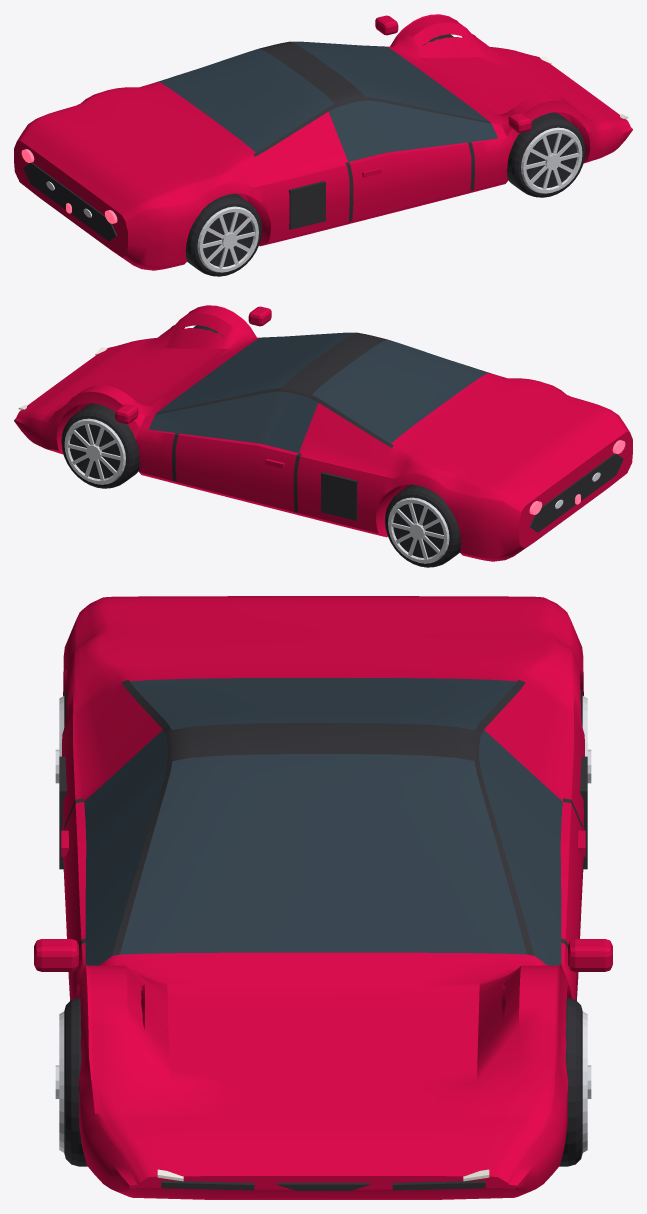
File: ferarri_laferarri.fbx
The picture shows the model from 3 angles, top to bottom: view 1: azimuth 30°, elevation 25°; view 2: azimuth 150°, elevation 25°; view 3: azimuth 270°, elevation 25°; orthographic projection. The views are drawn at different scales.
Parts seen in each view (by area): view 1: Body.036, Glass.036, Trim.036, Tire.036, Rim.036; view 2: Body.036, Glass.036, Trim.036, Tire.036, Rim.036; view 3: Body.036, Glass.036, Trim.036, Tire.036, Rim.036.
Part boxes in pixels (x1=…): Body.036: x1=14, y1=14, x2=632, y2=270; Glass.036: x1=159, y1=41, x2=498, y2=161; Trim.036: x1=23, y1=41, x2=626, y2=266; Tire.036: x1=185, y1=34, x2=585, y2=276; Rim.036: x1=197, y1=127, x2=582, y2=272; Body.036: x1=14, y1=305, x2=632, y2=561; Glass.036: x1=148, y1=332, x2=487, y2=452; Trim.036: x1=20, y1=332, x2=623, y2=557; Tire.036: x1=61, y1=325, x2=461, y2=567; Rim.036: x1=64, y1=418, x2=449, y2=563; Body.036: x1=34, y1=596, x2=612, y2=1199; Glass.036: x1=84, y1=678, x2=562, y2=965; Trim.036: x1=59, y1=680, x2=587, y2=1190; Tire.036: x1=64, y1=689, x2=582, y2=1166; Rim.036: x1=55, y1=696, x2=591, y2=1152.
Size of the model in its own units: 1596 by 370 by 771.
